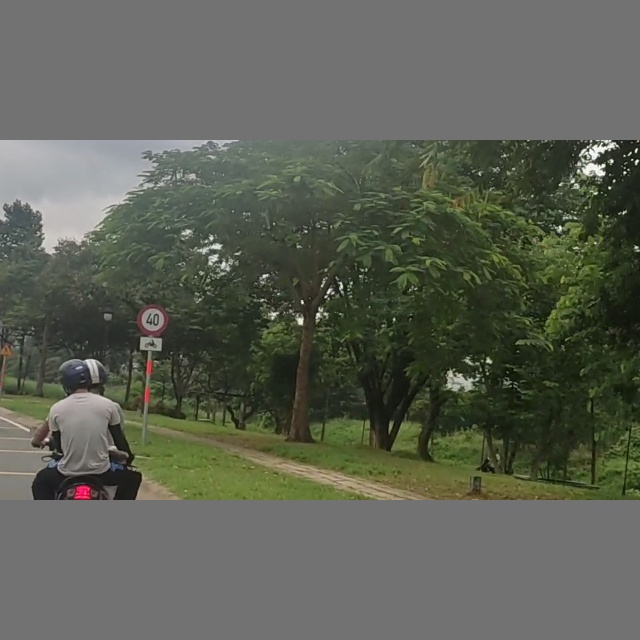P.127*40: (138, 304, 169, 337)
W.224: (1, 341, 13, 355)
